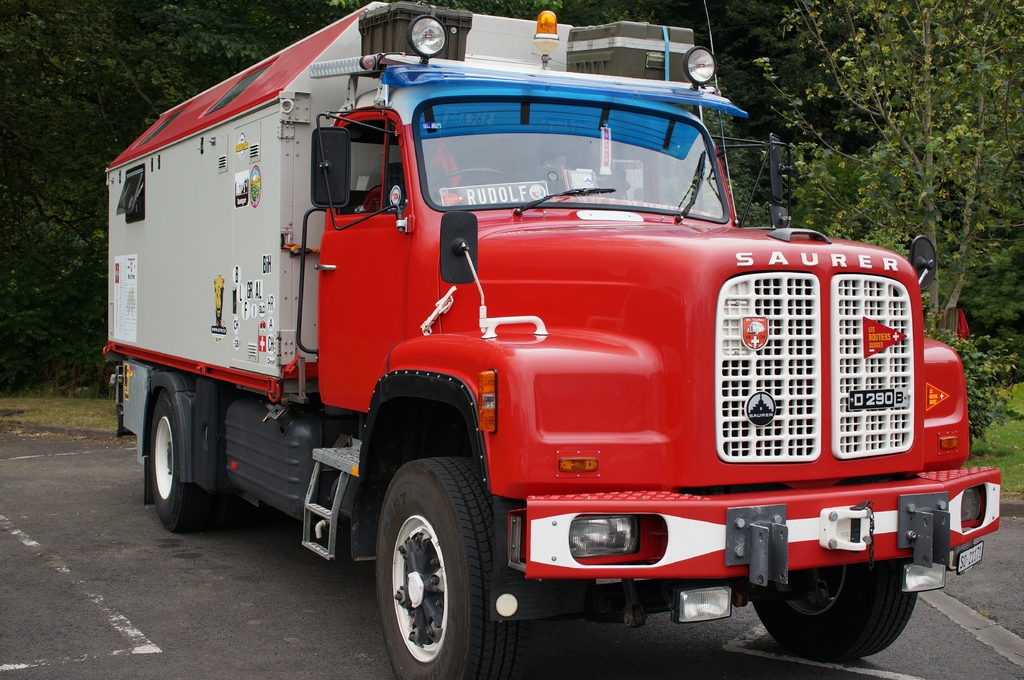truck: (72, 1, 1016, 671)
